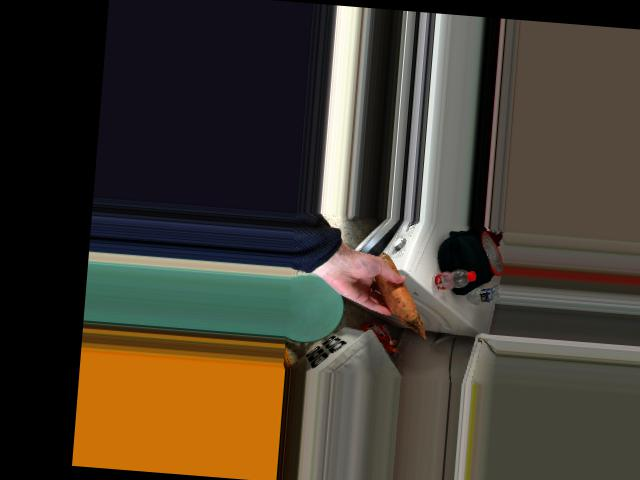sweet_potato: (373, 267, 421, 316)
